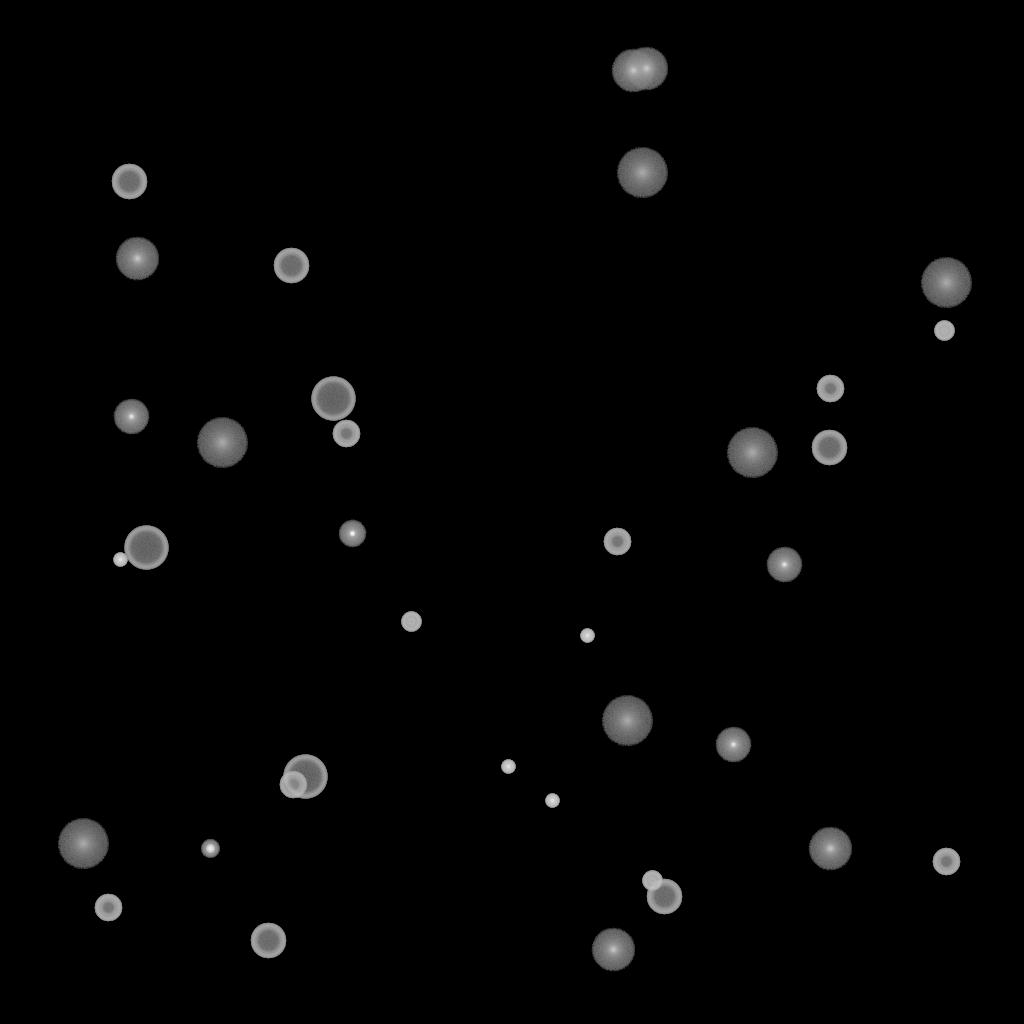depth:-10: (338, 520, 366, 548)
depth:-20: (201, 840, 219, 858)
depth:-30: (113, 553, 127, 567), (580, 629, 594, 643), (545, 794, 559, 808), (501, 760, 515, 774)
depth:-40: (642, 871, 662, 891), (934, 321, 954, 341), (401, 612, 421, 632)
depth:-50: (932, 848, 960, 876), (332, 420, 360, 448), (603, 528, 631, 556), (816, 375, 844, 403), (279, 771, 307, 799), (94, 894, 122, 922)
depth:-60: (111, 164, 147, 200), (811, 430, 847, 466), (646, 879, 682, 915), (273, 248, 309, 284), (250, 923, 286, 959)
depth:-70: (283, 755, 327, 799), (124, 526, 168, 570), (311, 377, 355, 421)
depth:0: (715, 727, 751, 763), (766, 547, 802, 583), (113, 399, 149, 435)
depth:10: (624, 47, 668, 91), (591, 928, 635, 972), (808, 827, 852, 871), (611, 49, 655, 93), (115, 237, 159, 281)
depth:20: (57, 819, 109, 869), (616, 148, 668, 198), (196, 418, 248, 468), (601, 696, 653, 746), (920, 258, 972, 308), (726, 428, 778, 478)
